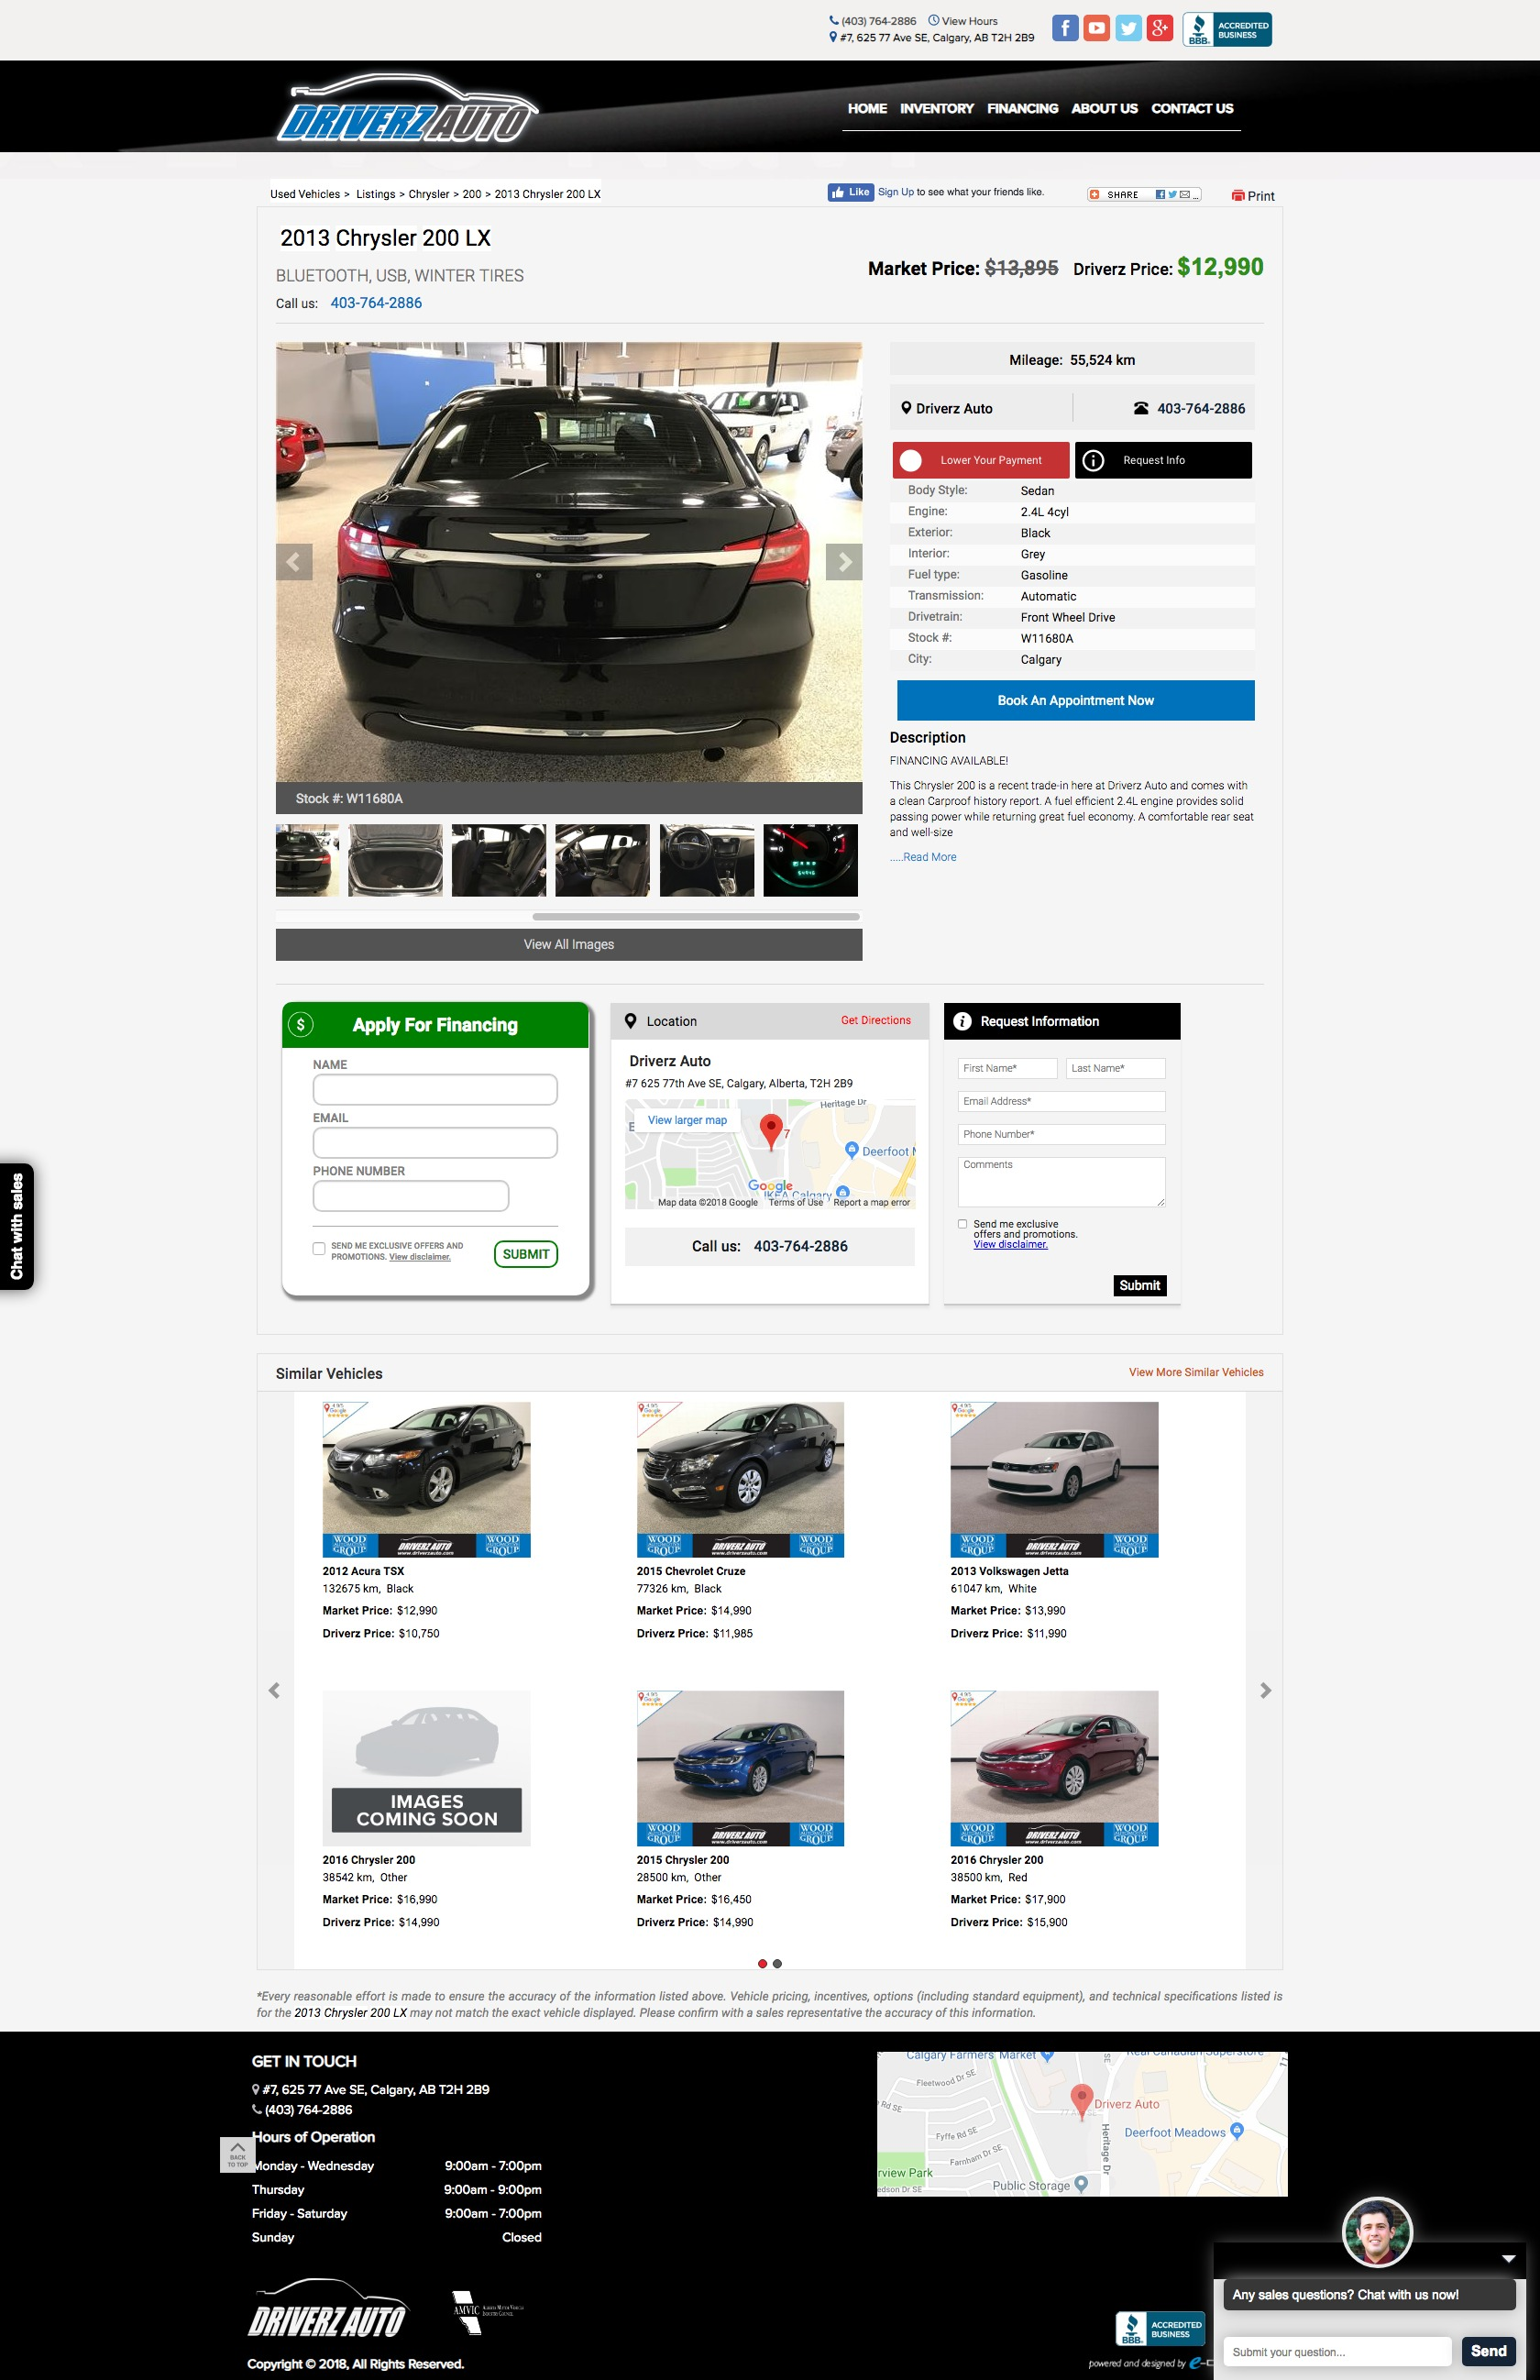car: (825, 543, 864, 583)
